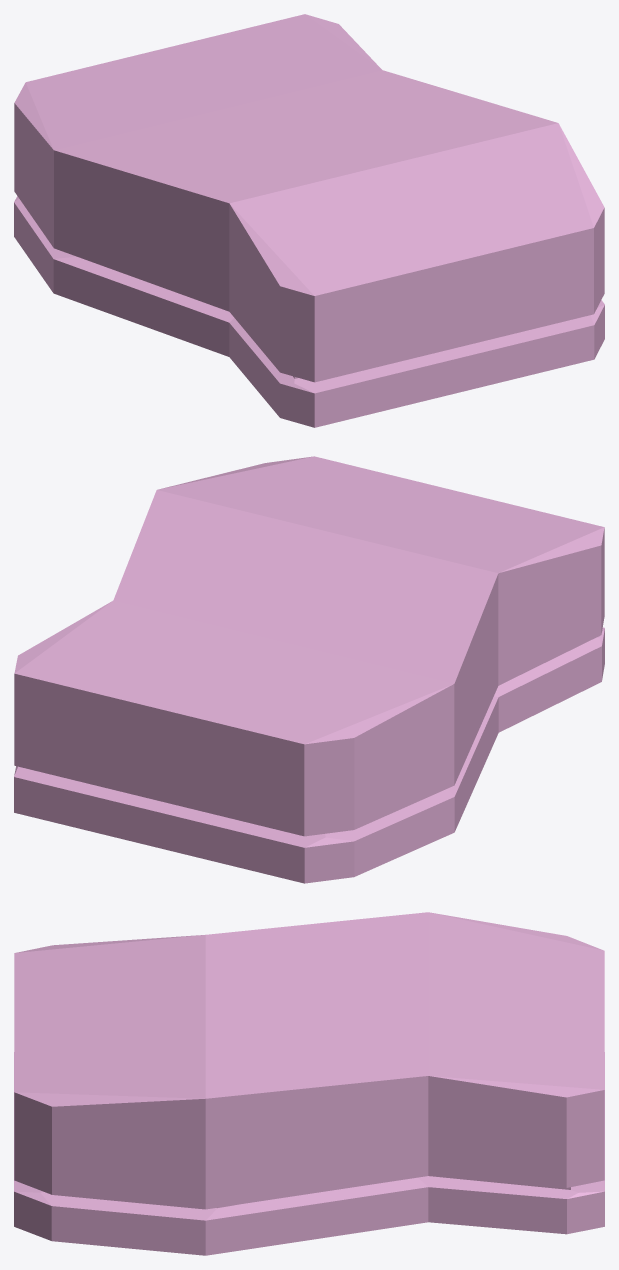
Rendered from sponge ew.fbx.
3 views of the same model, one above another, from view 1: azimuth 30°, elevation 25°; view 2: azimuth 150°, elevation 25°; view 3: azimuth 270°, elevation 25° (orthographic). The views are drawn at different scales.
Visible parts, largest first — view 1: Cube; view 2: Cube; view 3: Cube.
Boxes of the visible parts, x1,y1,x2,y2 form: Cube: [14, 14, 604, 427]; Cube: [14, 456, 604, 883]; Cube: [14, 912, 604, 1255].
Bounding box in the file's own units: 245 × 90.88 × 310.
